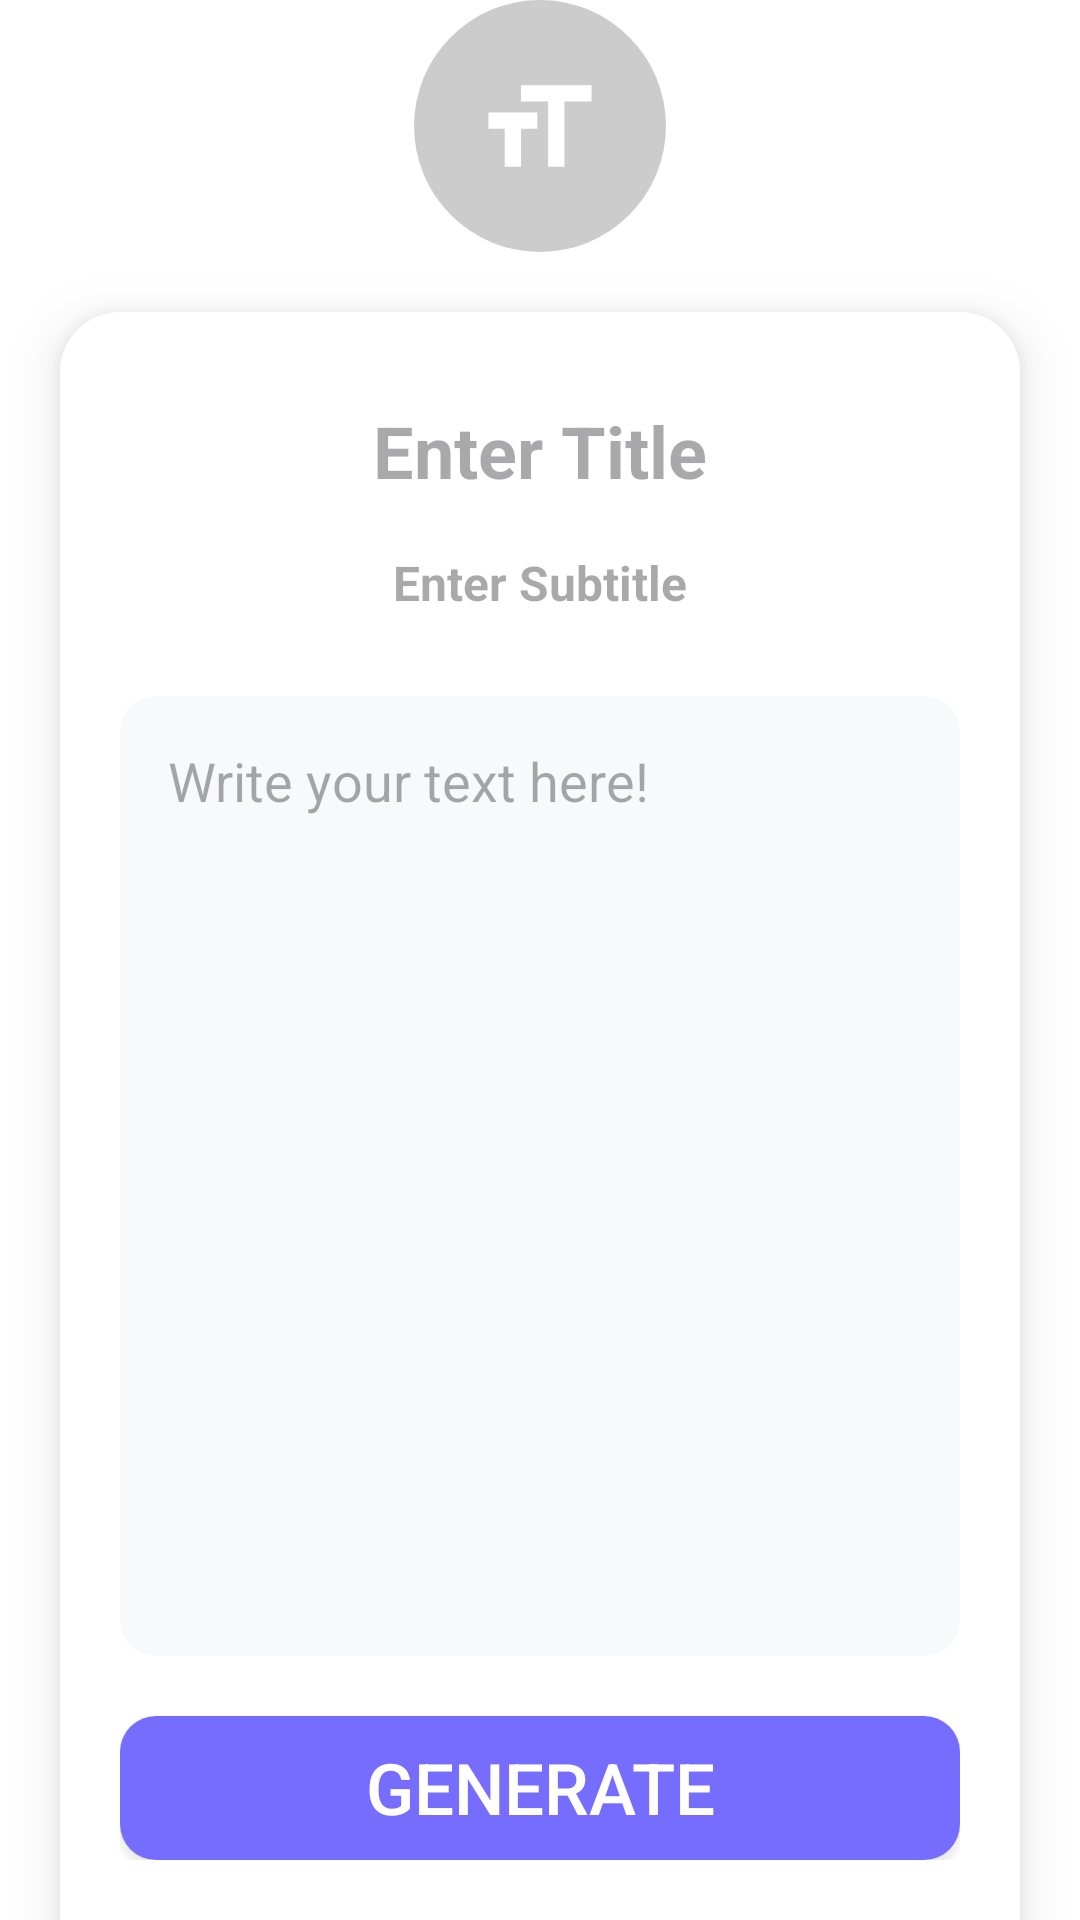

Where to tap for icons on this 1080w x 1920h app screen, as point (x, y):
text: point (540, 126)
